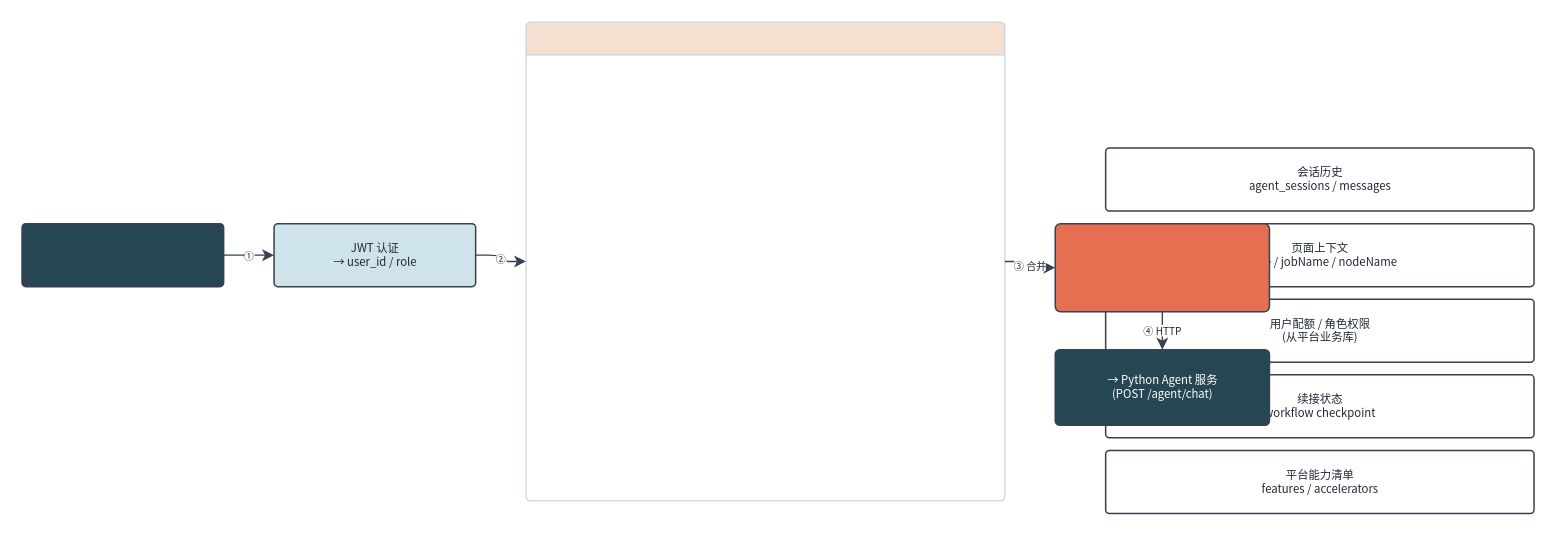
This 1557x537 diagram has some shape labels left out. Here are the shapes that lost their labels. From the top down, the centre of each, then its label:
At [122,254]: "用户请求 (Web)".
At [765,261]: "多源上下文加载".
At [1162,267]: "ChatRequest 组装 (Go normalize.go)".
